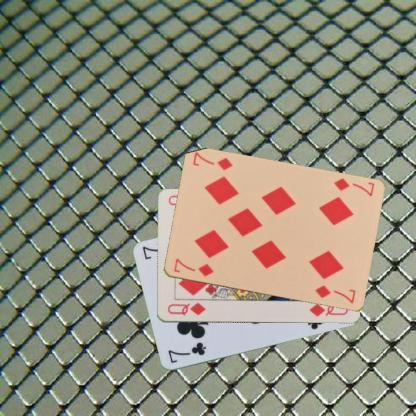7c: (166, 340, 208, 364)
7d: (330, 175, 376, 198), (171, 256, 214, 278)
Qd: (165, 300, 207, 318)
